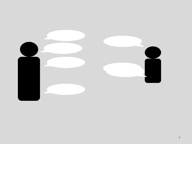left_speech: (42, 82, 87, 97), (43, 56, 87, 70), (39, 42, 84, 55), (41, 28, 86, 41)
right_speech: (100, 61, 148, 80), (101, 33, 144, 49)
